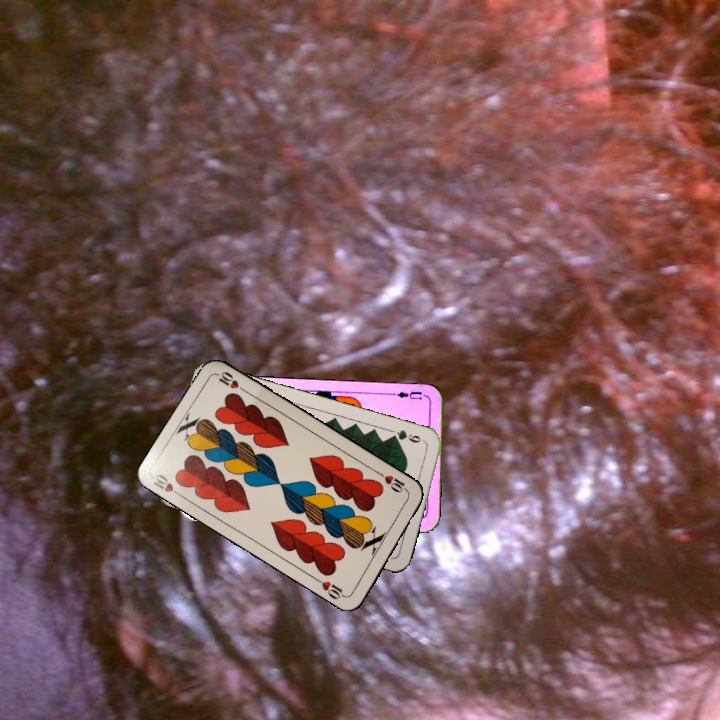EU: (389, 387, 429, 402)
G9: (387, 426, 428, 446)
H10: (149, 470, 186, 500), (375, 468, 411, 496)
